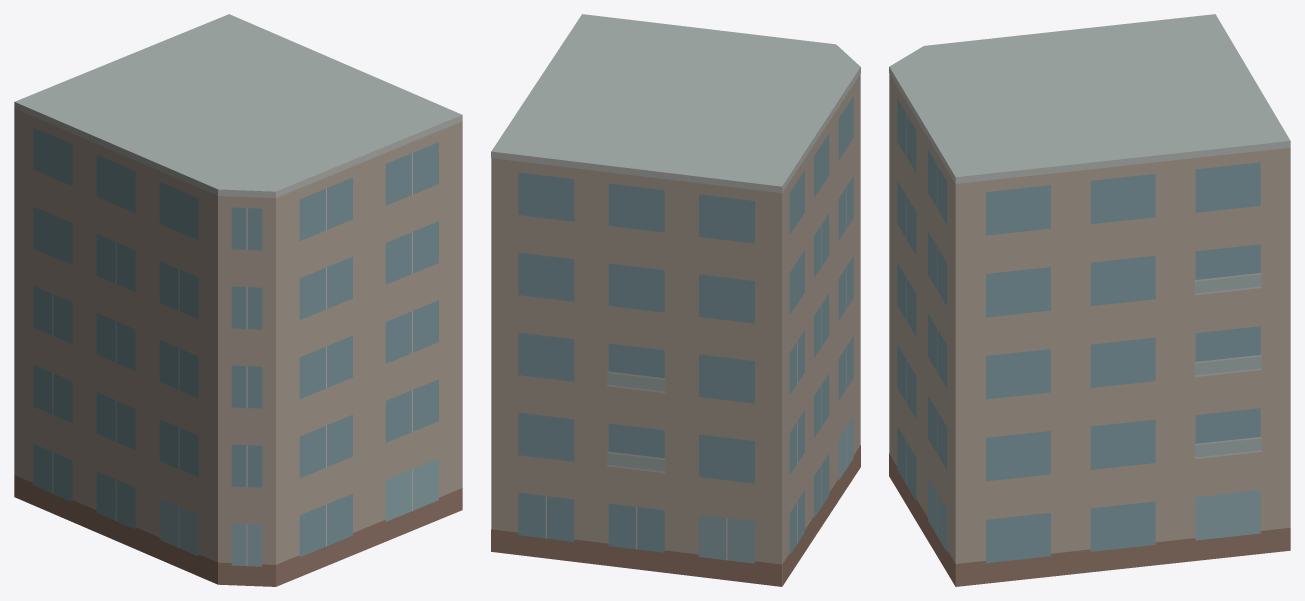
Rendered from survey-upis-32717053.glb.
The picture shows the model from 3 angles, left to right: view 1: azimuth 30°, elevation 25°; view 2: azimuth 150°, elevation 25°; view 3: azimuth 270°, elevation 25°; orthographic projection. The views are drawn at different scales.
Parts seen in each view (by area): view 1: survey-upis-32717053.tmp; view 2: survey-upis-32717053.tmp; view 3: survey-upis-32717053.tmp.
Boxes of the visible parts, <box> form: survey-upis-32717053.tmp: <box>14,14,462,586</box>; survey-upis-32717053.tmp: <box>491,14,860,586</box>; survey-upis-32717053.tmp: <box>889,14,1290,586</box>.
Size of the model in its own units: 12.75 by 14.9 by 13.25.
